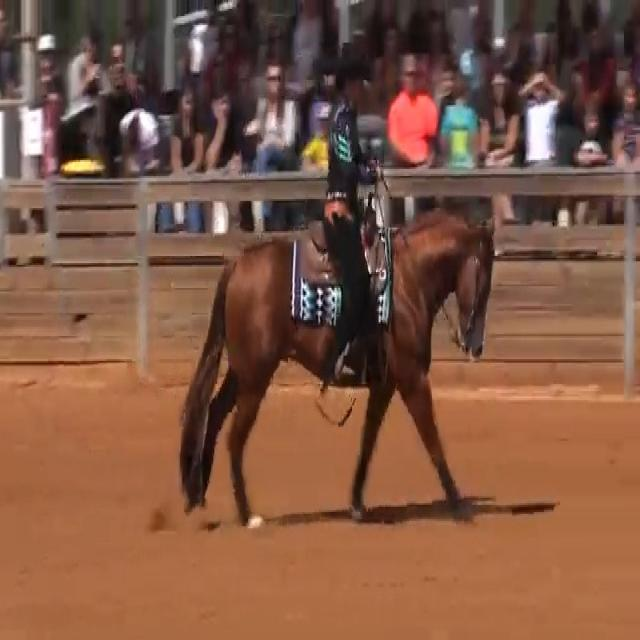horse: (176, 204, 497, 528)
